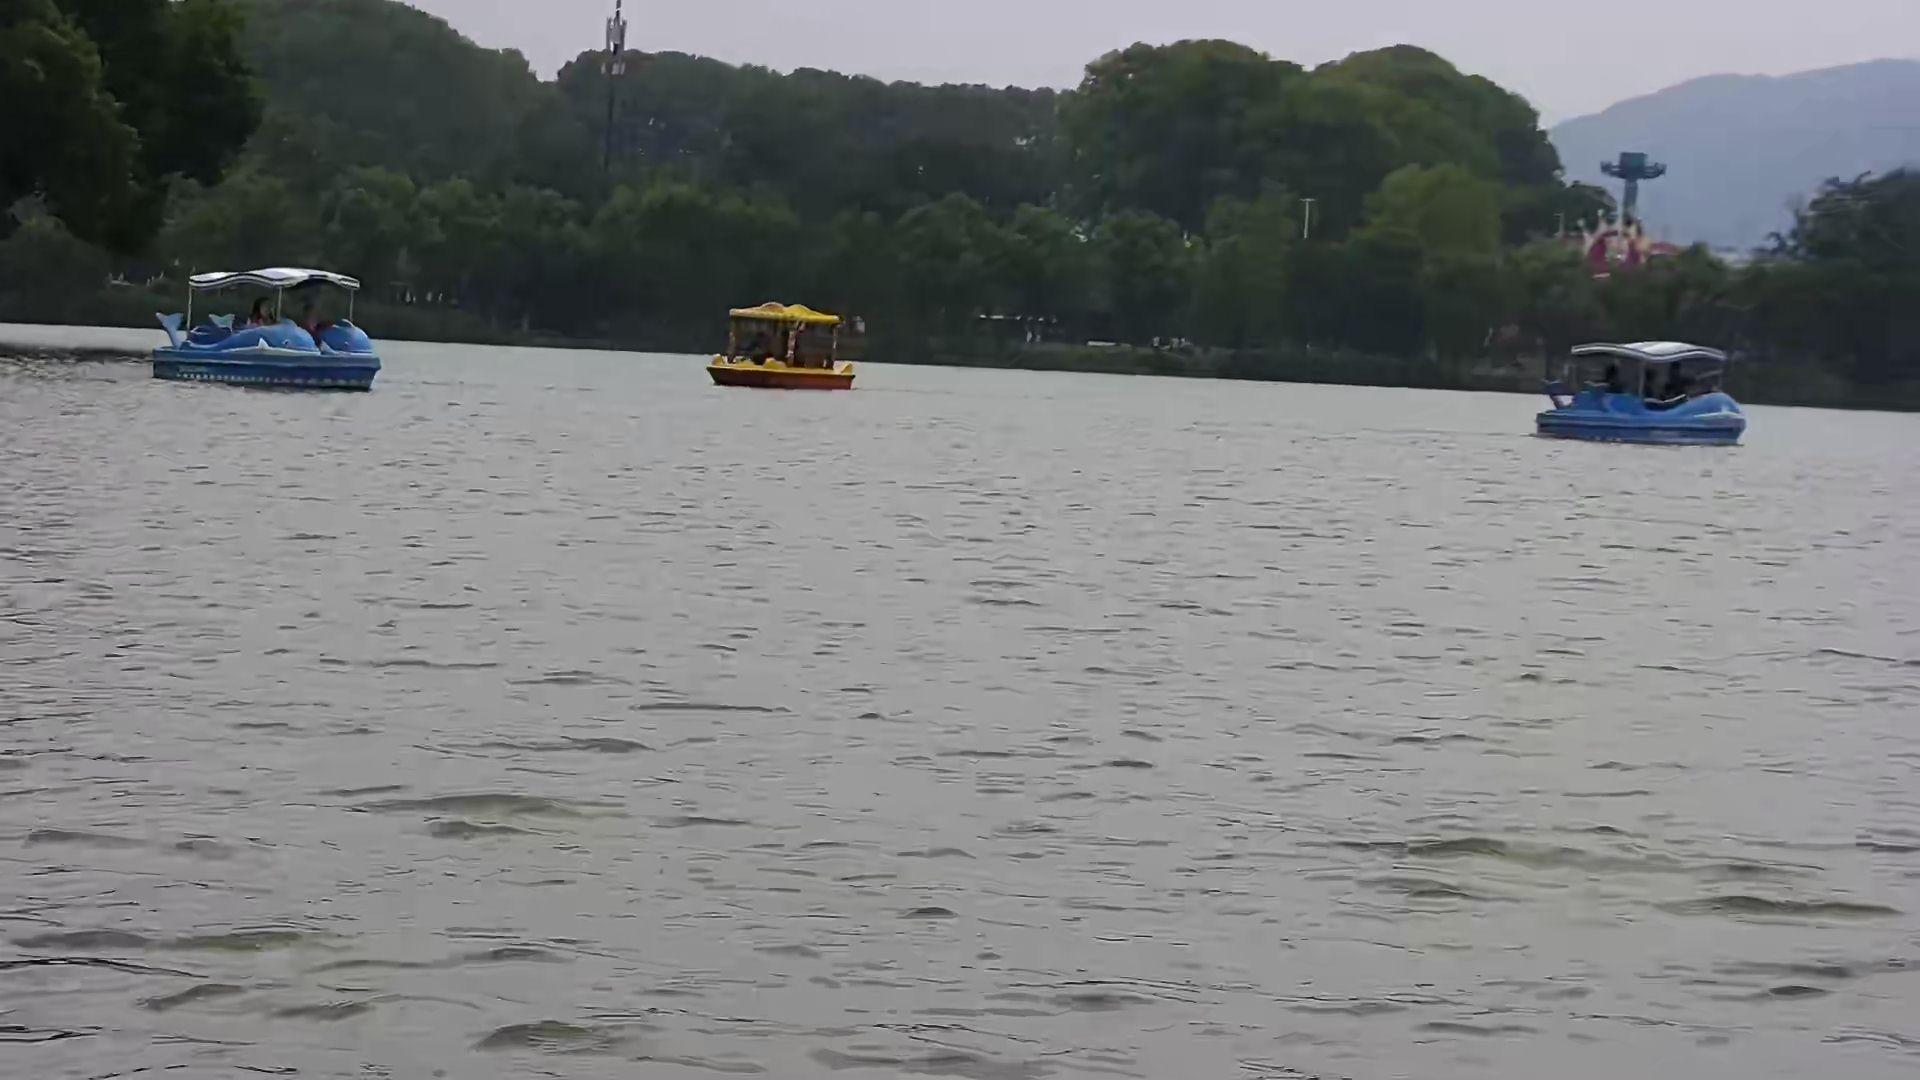boat: (152, 251, 377, 396), (1538, 320, 1756, 456), (698, 291, 858, 400)
